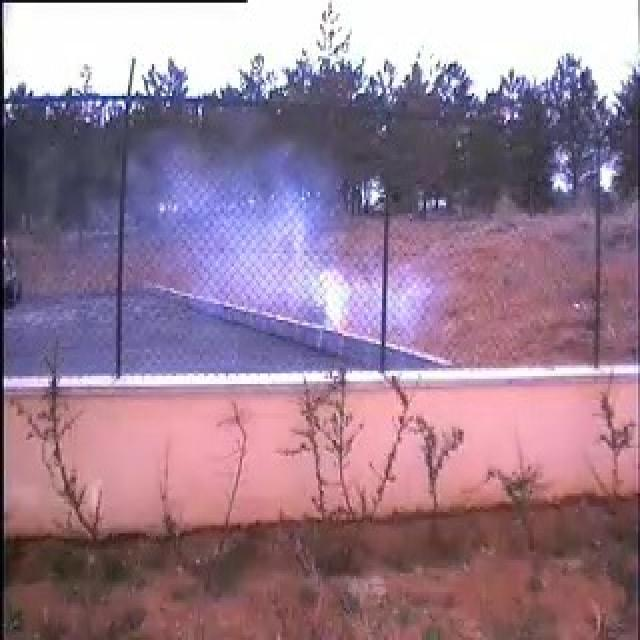smoke: (134, 132, 429, 343)
